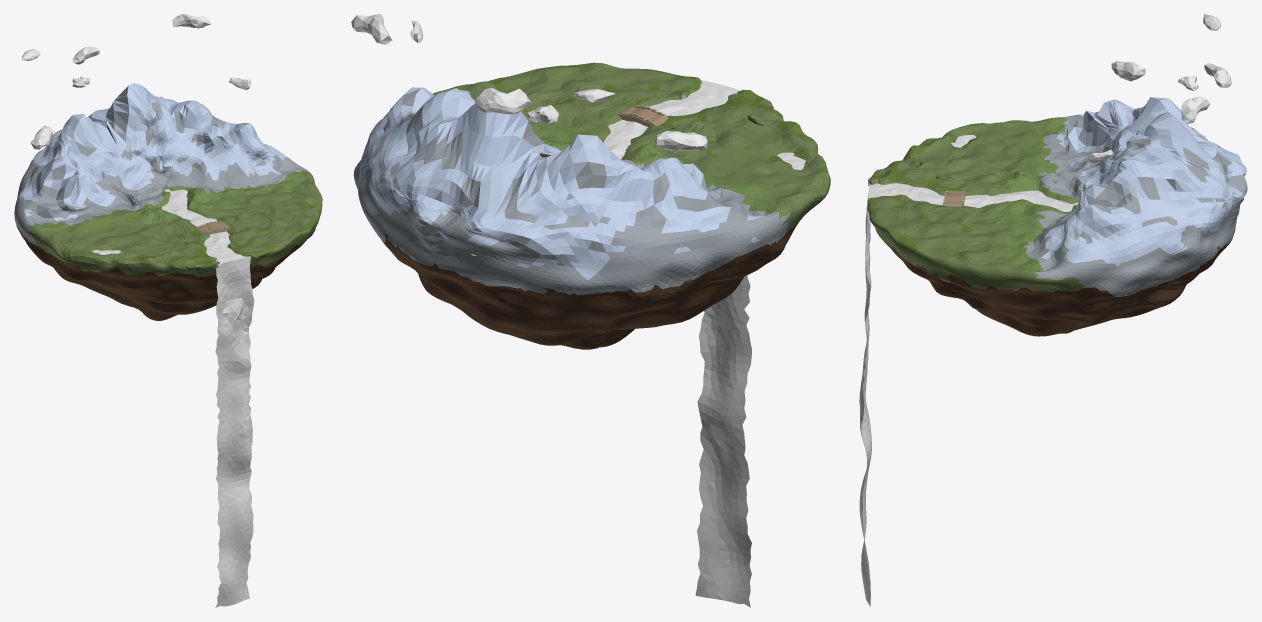
Rendered from floating.fbx.
3 views of the same model, side by side, from view 1: azimuth 30°, elevation 25°; view 2: azimuth 150°, elevation 25°; view 3: azimuth 270°, elevation 25° (orthographic). The views are drawn at different scales.
Parts seen in each view (by area): view 1: Island, River, Cloud.003; view 2: Island, River, Cloud.001, Cloud.002, Cloud.003, Bridge; view 3: Island, River, Cloud.003.
Boxes of the visible parts, left/top/right/bottom form: Island: left=14, top=83, right=322, bottom=320; River: left=92, top=189, right=254, bottom=607; Cloud.003: left=172, top=14, right=211, bottom=28; Island: left=353, top=62, right=830, bottom=349; River: left=471, top=80, right=805, bottom=607; Cloud.001: left=475, top=87, right=531, bottom=114; Cloud.002: left=655, top=131, right=707, bottom=151; Cloud.003: left=351, top=14, right=392, bottom=44; Bridge: left=617, top=105, right=668, bottom=126; Island: left=867, top=97, right=1247, bottom=336; River: left=859, top=135, right=1077, bottom=606; Cloud.003: left=1181, top=96, right=1210, bottom=124.
Bounding box in the file's own units: 3077 × 5041 × 3206.
